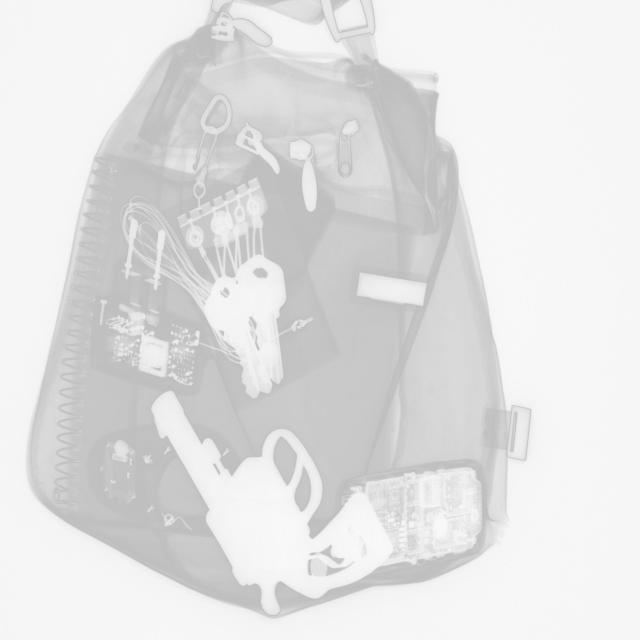pistol: (152, 389, 392, 608)
